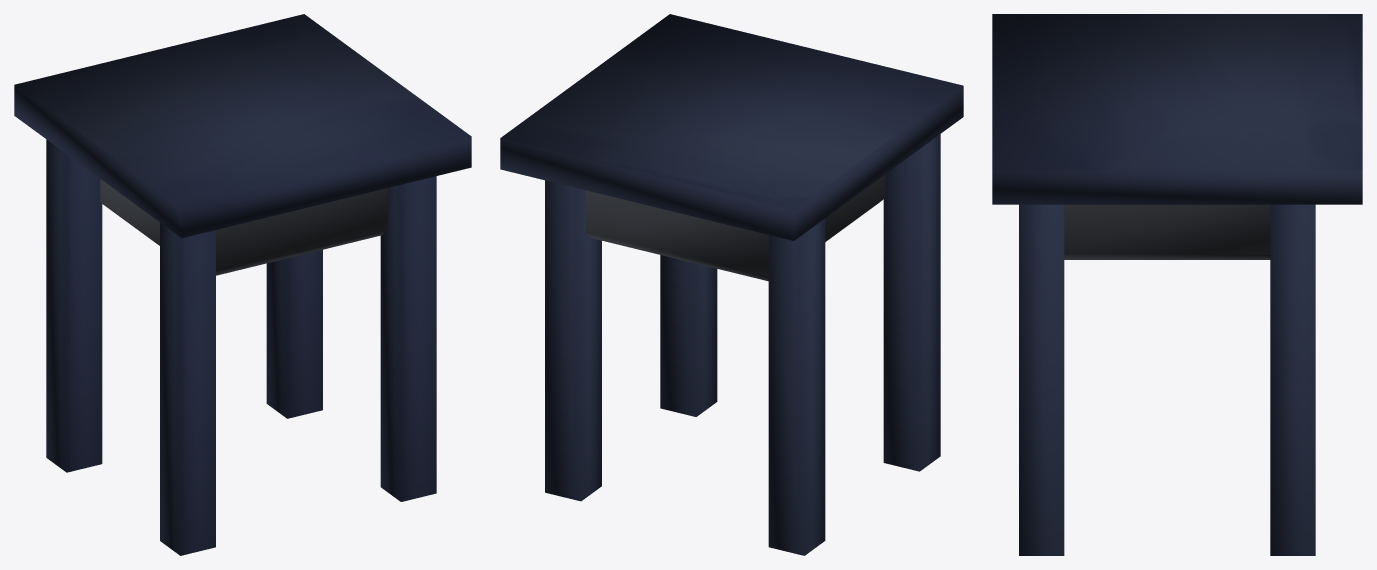
File: Banquinho.fbx
3 renders of one model, left to right at view 1: azimuth 30°, elevation 25°; view 2: azimuth 150°, elevation 25°; view 3: azimuth 270°, elevation 25°, orthographic. The views are drawn at different scales.
Parts seen in each view (by area): view 1: Banquinho; view 2: Banquinho; view 3: Banquinho.
Part boxes in pixels (x1,y1,x2,y2): Banquinho: (14,14,471,555); Banquinho: (500,14,963,555); Banquinho: (992,14,1362,555).
Bounding box in the file's own units: 78.45 × 78.45 × 93.03.
